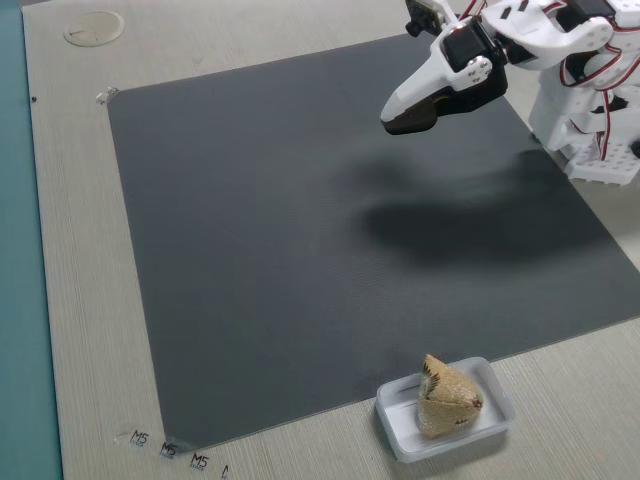objects: (371, 4, 516, 141)
